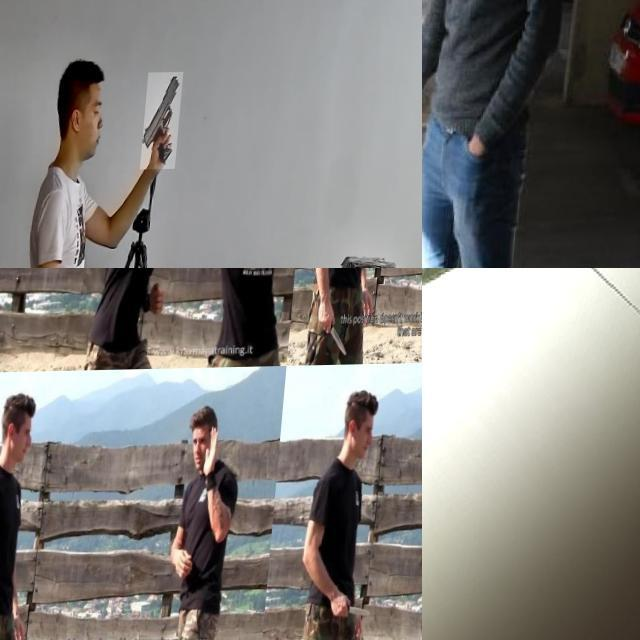-: (422, 153, 462, 232), (317, 306, 356, 360), (340, 592, 386, 624), (146, 268, 174, 307)
gun-knife-thesis - v11 Yolov5 augmented: (422, 268, 640, 640), (144, 73, 186, 171)
